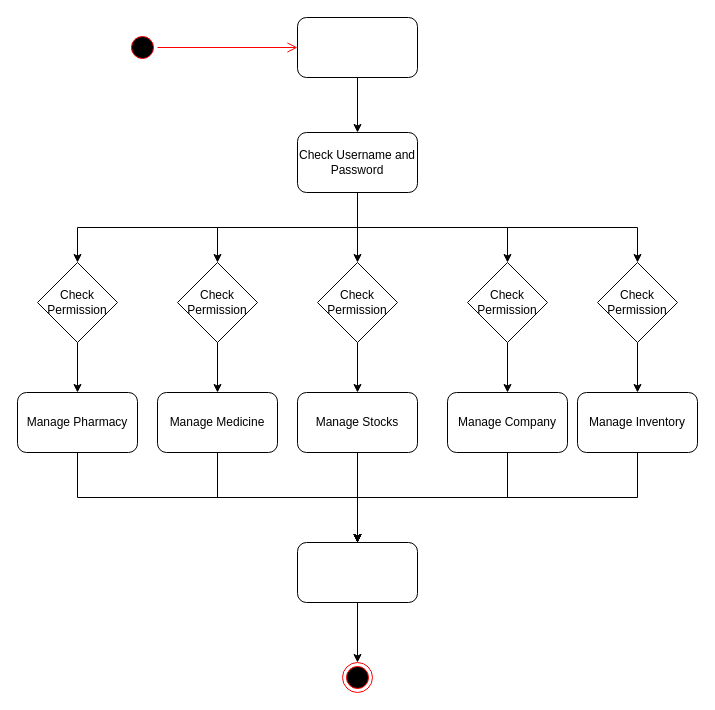
Image size: 715x710. Some labels were removed from this diagram. The box of each missing label's shape, as (x1, y1, x2, y2) in pixels:
Login: (296, 16, 418, 78)
Logout: (296, 542, 418, 602)
